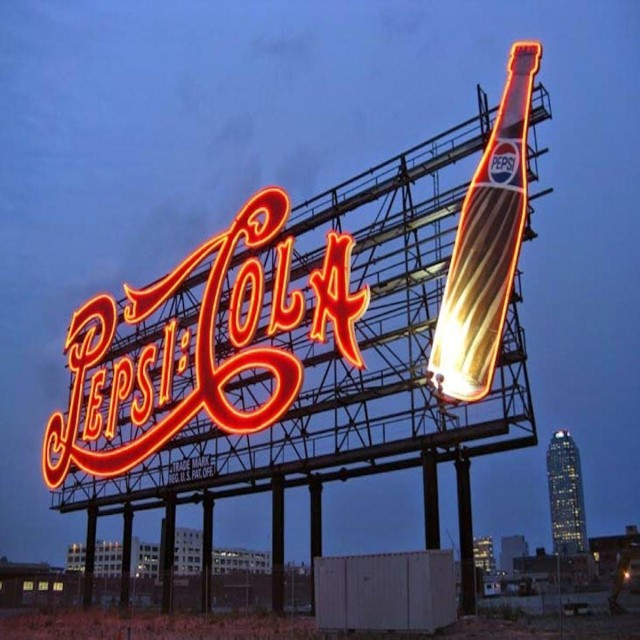pepsi: (490, 140, 522, 182)
